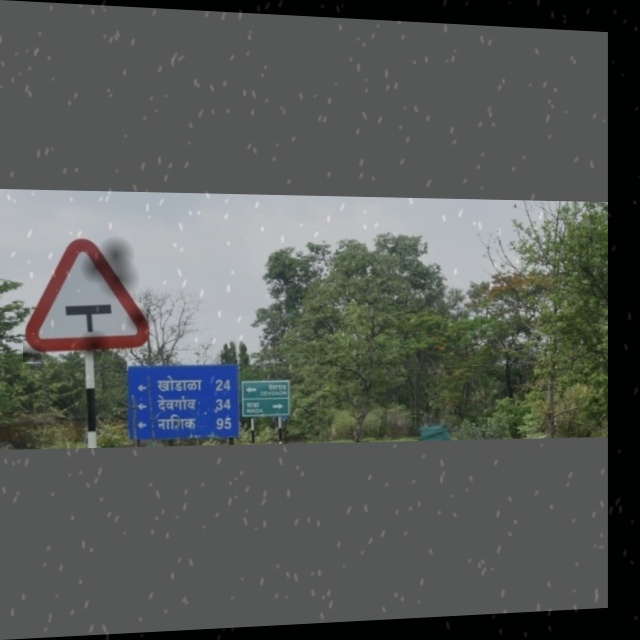T_Intersection: (23, 236, 155, 362)
